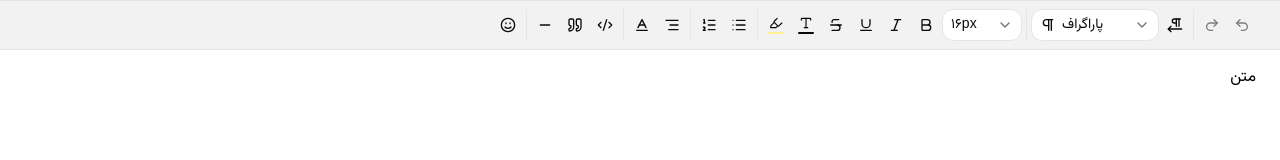
Test: NoteBodyEditor tooltips › shows the strikethrough tooltip on hover
Hover over the button named "خط خورده" at (836, 25), box [822,11,850,39]
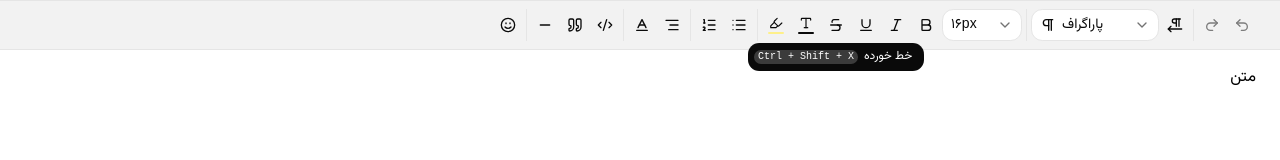
Check: the text "خط خورده" is shown, box [864,49,912,65]
